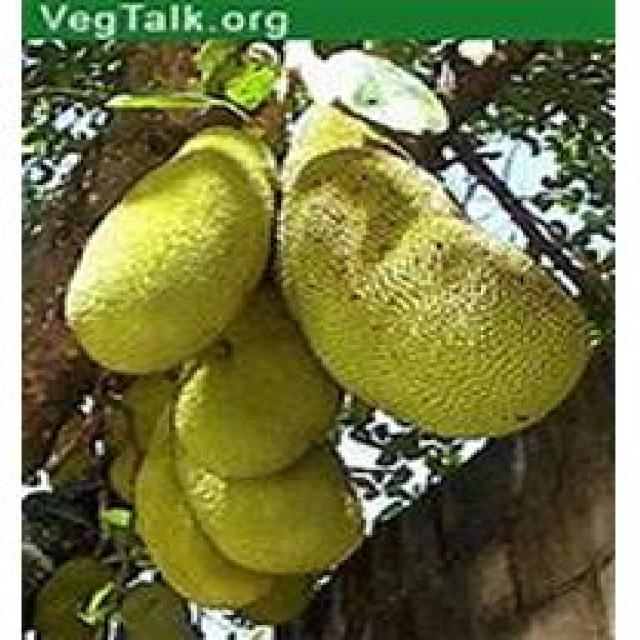Fruit: (249, 118, 609, 460), (114, 287, 394, 635), (49, 120, 289, 390)
